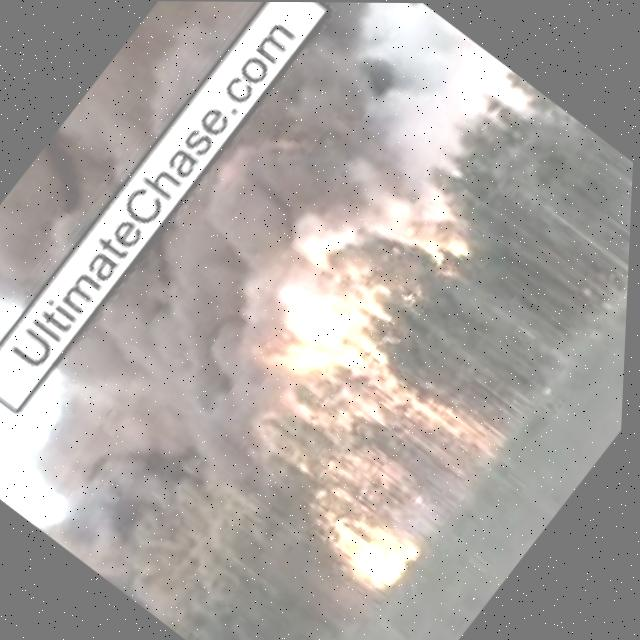Fire: (256, 278, 530, 507), (300, 476, 434, 602), (378, 185, 480, 280)
Smoke: (0, 0, 464, 534), (156, 152, 608, 605), (0, 0, 317, 331)
